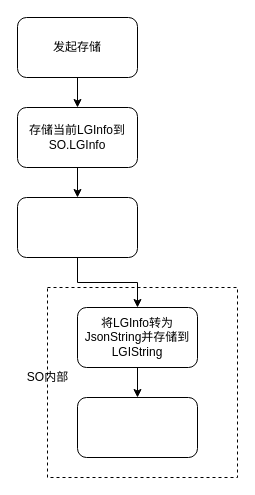
The diagram is 255 pixels wide and 495 high, and some of its shapes have lost their labels. The centre of each missing label's shape, as x and y in pixels:
LGIString由Unity序列化工具序列化到SO: point 137,427
调用SO.Save(): point 77,227
